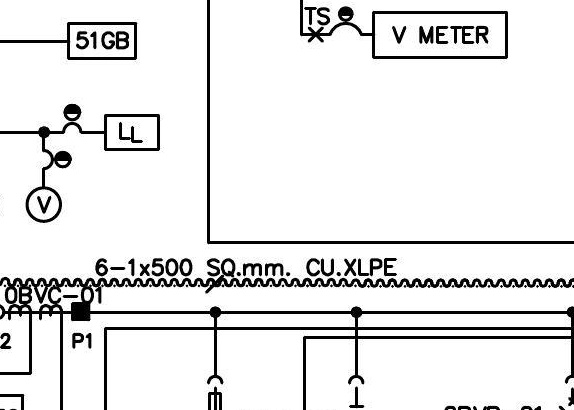LL: (103, 114, 161, 151)
v_m: (24, 185, 63, 224)
v_m_digital: (371, 10, 509, 60)
